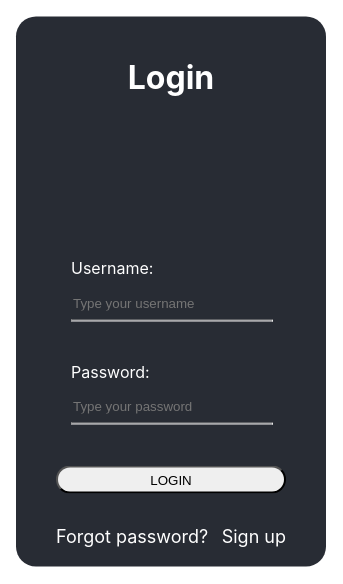
Test: UserLoginForm component › handles 401 unauthorized response
Type "testuser" into the field labelled "Username:" at (162, 303), box [71,294,252,311]
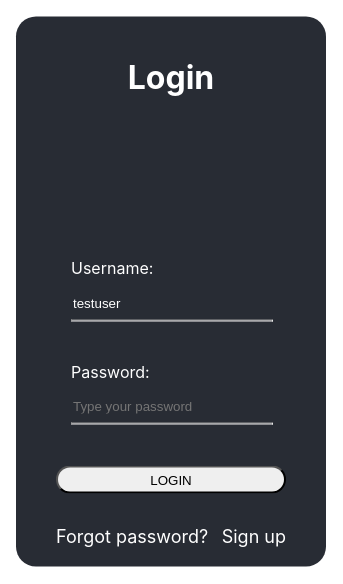
Type "wrongpass" into the password field labelled "Password:" at (162, 406), box [71,398,252,415]
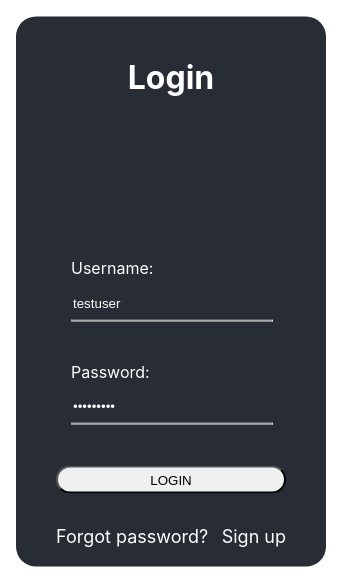
Click the button "LOGIN" at (171, 479), box [56,465,286,494]
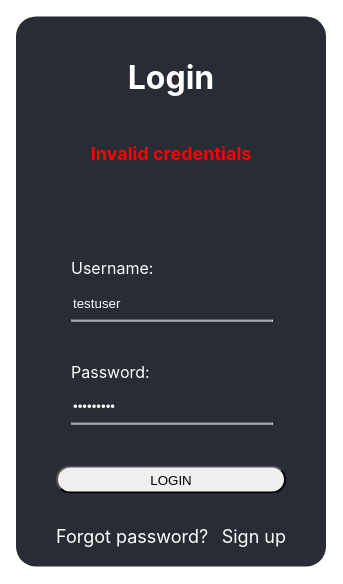
Result: the text "Invalid credentials" is shown at [91,142,251,163]
